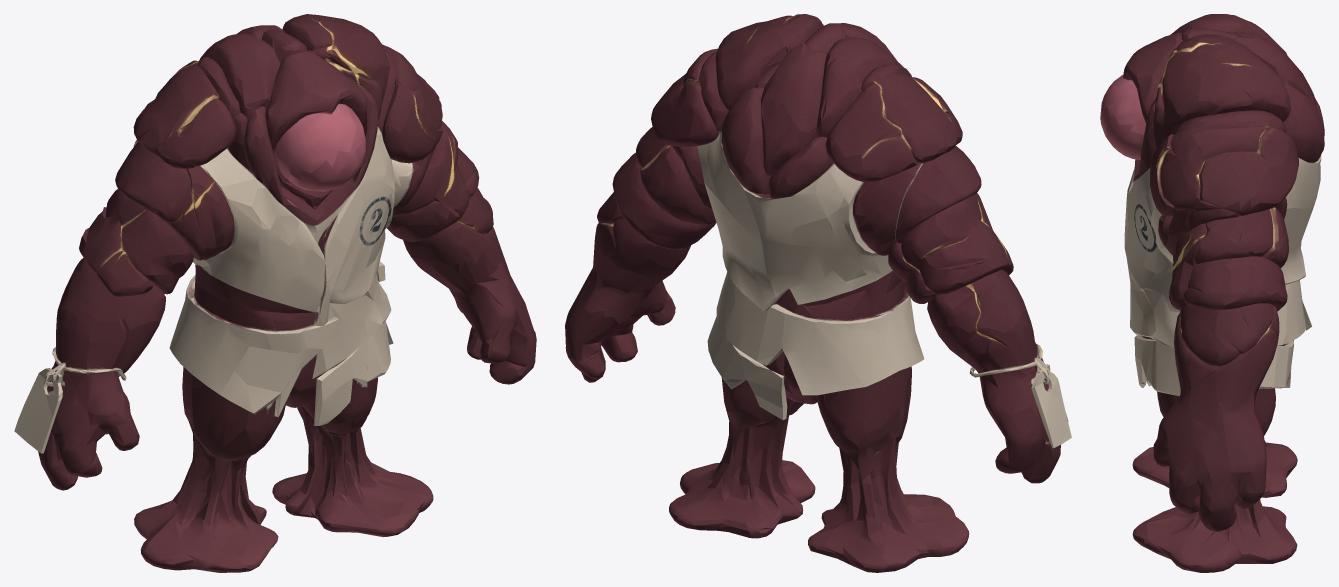
The picture shows the model from 3 angles, left to right: view 1: azimuth 30°, elevation 25°; view 2: azimuth 150°, elevation 25°; view 3: azimuth 270°, elevation 25°; orthographic projection. The views are drawn at different scales.
Size of the model in its own units: 1.9 by 1.82 by 0.7657.
1 material, 1 textured.
